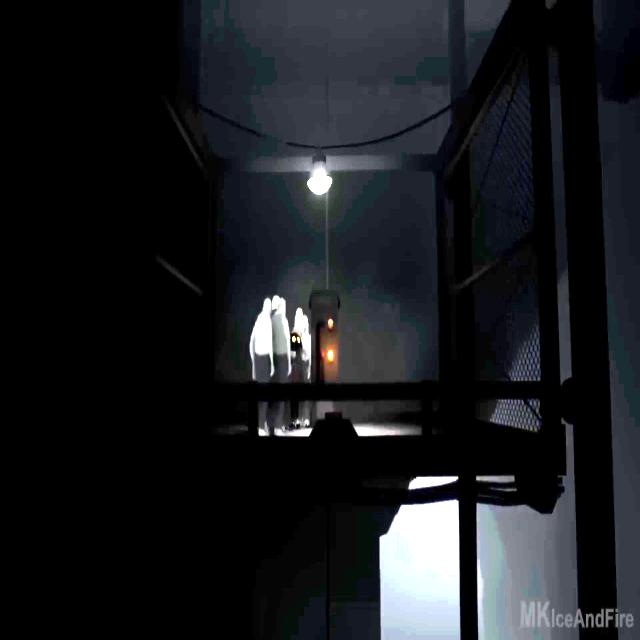zombie: (250, 298, 274, 435), (274, 297, 291, 435), (293, 307, 303, 333)
